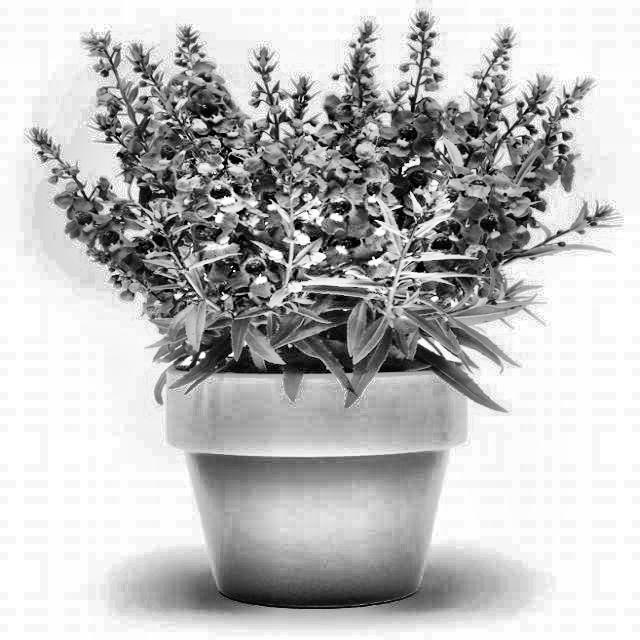plants: (86, 29, 566, 599)
